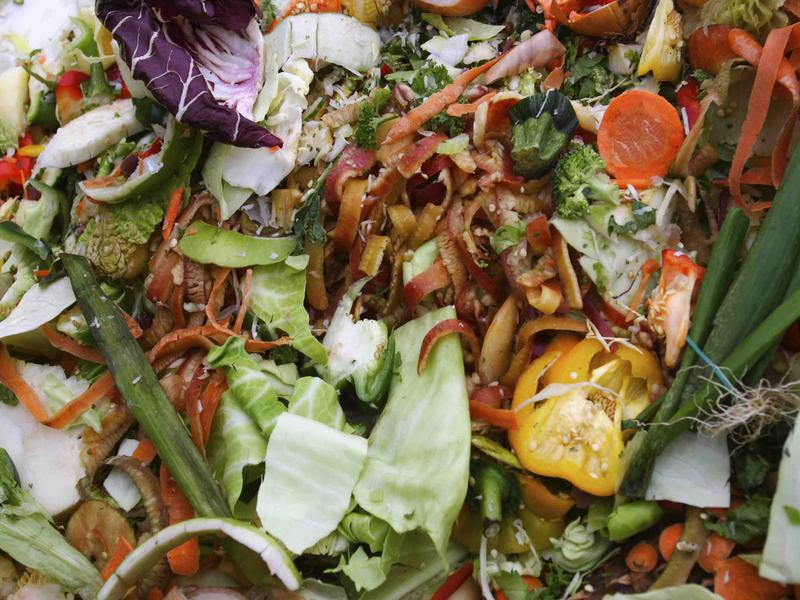vegetation: (2, 1, 800, 600)
